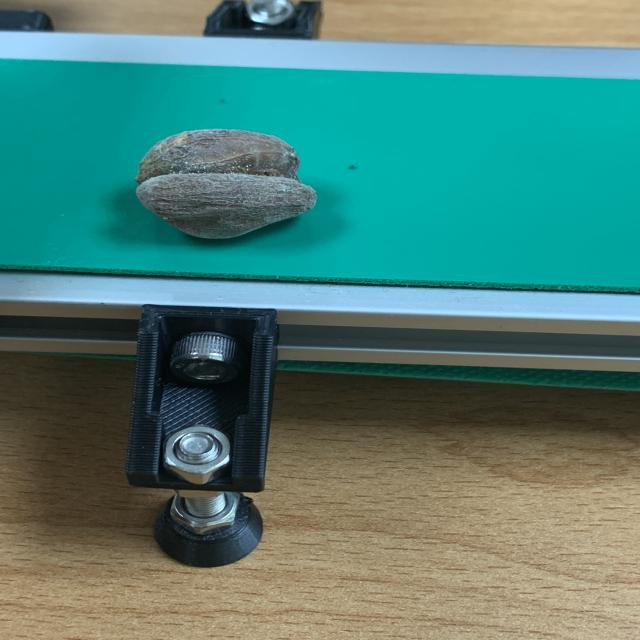Agglomerated_cocoabeans: (62, 84, 416, 276)
